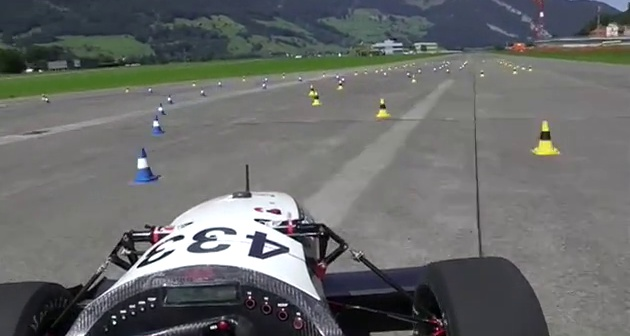Cone: (129, 145, 163, 181), (531, 120, 562, 156), (150, 114, 168, 136), (375, 96, 392, 119)
